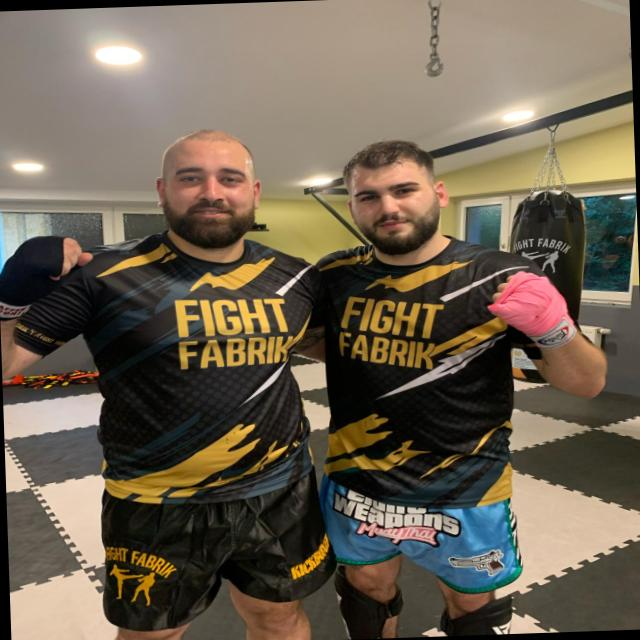Sero: (341, 142, 446, 259)
face: (150, 122, 264, 256)
